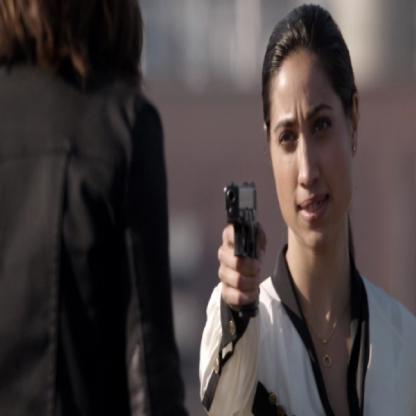Pistol: (222, 174, 262, 320)
